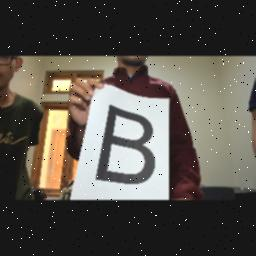b: (98, 100, 156, 190)
